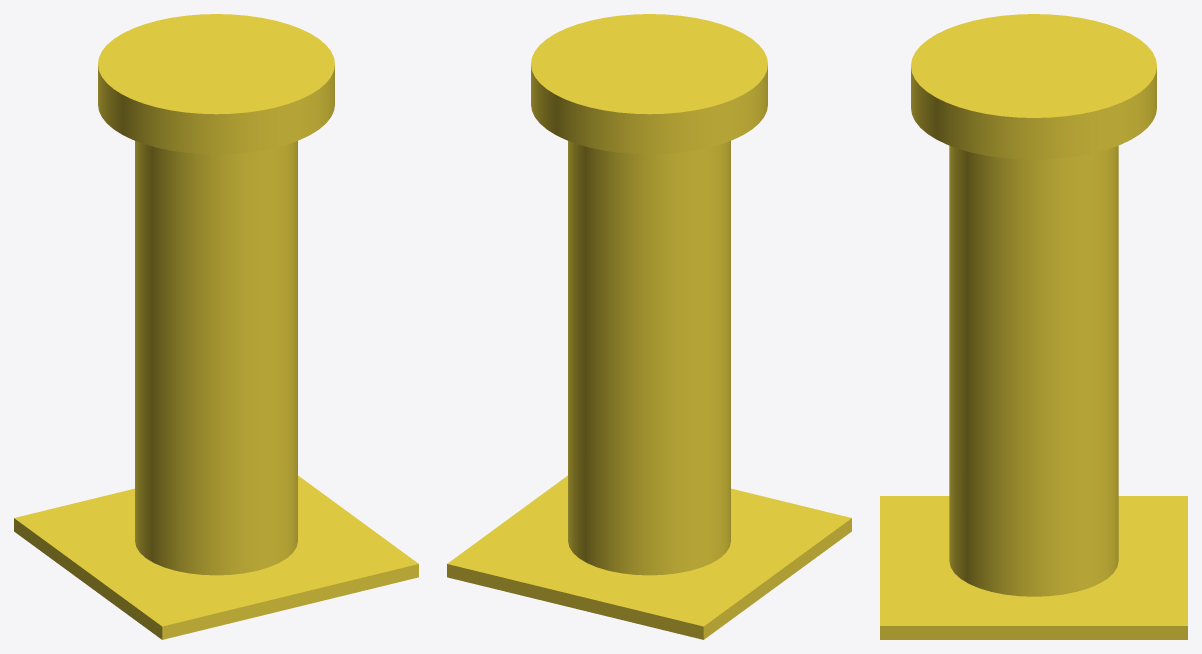
The model's file is bollard.glb.
The picture shows the model from 3 angles, left to right: view 1: azimuth 30°, elevation 25°; view 2: azimuth 150°, elevation 25°; view 3: azimuth 270°, elevation 25°; orthographic projection. The views are drawn at different scales.
Visible parts, largest first — view 1: pipe, cap, base_plate; view 2: pipe, cap, base_plate; view 3: pipe, cap, base_plate.
Part boxes in pixels (x1,y1,x2,y2): pipe: (135,141,297,575); cap: (98,14,334,154); base_plate: (14,475,418,639); pipe: (568,141,730,575); cap: (531,14,767,154); base_plate: (447,475,851,639); pipe: (949,145,1118,596); cap: (911,14,1156,159); base_plate: (880,496,1187,639).
Size of the model in its own units: 0.4 by 0.73 by 0.4.
